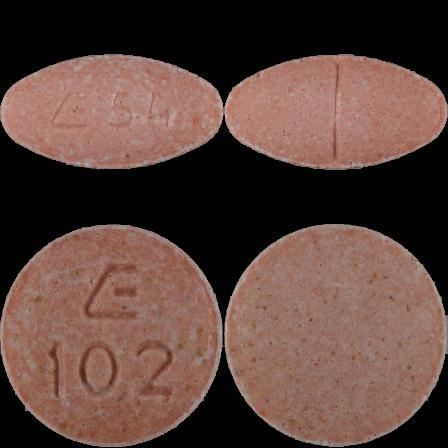0904-6484: (0, 0, 224, 224)
